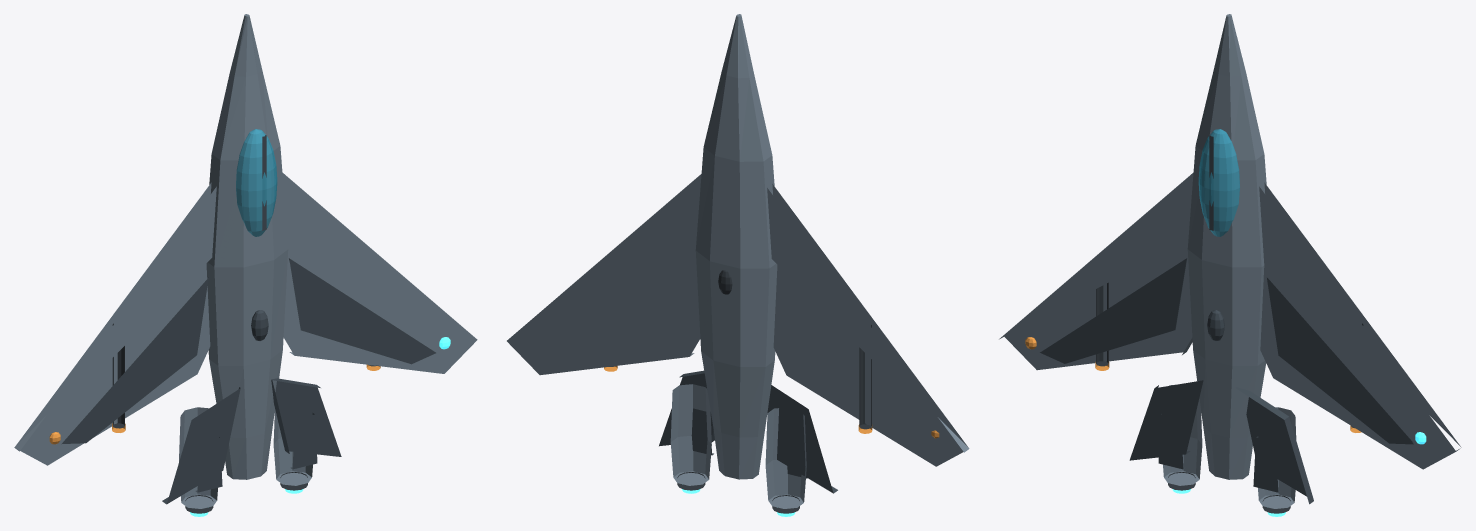
The model's file is Starfall_Interceptor.glb.
3 views of the same model, side by side, from view 1: azimuth 30°, elevation 25°; view 2: azimuth 150°, elevation 25°; view 3: azimuth 330°, elevation 25° (orthographic).
Visible parts, largest first — view 1: Main fuselage, Port swept wing, Starboard swept wing, Port wing panel, Starboard wing panel, Cockpit canopy, Port tail fin, Starboard tail fin, Starboard engine nacelle, Starboard nacelle top armor, Port nacelle top armor, Port engine nacelle; view 2: Main fuselage, Port swept wing, Starboard swept wing, Port tail fin, Starboard engine nacelle, Port engine nacelle, Starboard tail fin, Starboard nacelle top armor, Port laser barrel; view 3: Main fuselage, Starboard swept wing, Port swept wing, Starboard wing panel, Port wing panel, Cockpit canopy, Starboard tail fin, Port tail fin, Port engine nacelle, Starboard nacelle top armor, Port nacelle top armor, Starboard engine nacelle.
Boxes of the visible parts, left/top/right/bottom form: Main fuselage: left=206, top=14, right=288, bottom=479; Port swept wing: left=14, top=182, right=216, bottom=465; Starboard swept wing: left=282, top=172, right=477, bottom=373; Port wing panel: left=61, top=277, right=208, bottom=444; Starboard wing panel: left=289, top=258, right=435, bottom=364; Cockpit canopy: left=236, top=129, right=277, bottom=236; Port tail fin: left=162, top=387, right=240, bottom=504; Starboard tail fin: left=271, top=378, right=341, bottom=456; Starboard engine nacelle: left=273, top=409, right=312, bottom=485; Starboard nacelle top armor: left=290, top=413, right=317, bottom=469; Port nacelle top armor: left=195, top=437, right=222, bottom=492; Port engine nacelle: left=179, top=407, right=217, bottom=508; Main fuselage: left=695, top=14, right=777, bottom=479; Port swept wing: left=767, top=184, right=969, bottom=466; Starboard swept wing: left=507, top=174, right=701, bottom=375; Port tail fin: left=767, top=385, right=837, bottom=493; Starboard engine nacelle: left=670, top=384, right=711, bottom=485; Port engine nacelle: left=765, top=408, right=806, bottom=508; Starboard tail fin: left=659, top=370, right=714, bottom=446; Starboard nacelle top armor: left=691, top=408, right=713, bottom=455; Port laser barrel: left=859, top=325, right=871, bottom=429; Main fuselage: left=1187, top=14, right=1266, bottom=479; Starboard swept wing: left=1259, top=182, right=1461, bottom=469; Port swept wing: left=999, top=172, right=1193, bottom=370; Starboard wing panel: left=1267, top=277, right=1414, bottom=444; Port wing panel: left=1040, top=258, right=1187, bottom=363; Cockpit canopy: left=1198, top=129, right=1239, bottom=236; Starboard tail fin: left=1235, top=387, right=1313, bottom=504; Port tail fin: left=1129, top=380, right=1203, bottom=460; Port engine nacelle: left=1163, top=384, right=1202, bottom=485; Starboard nacelle top armor: left=1253, top=436, right=1280, bottom=492; Port nacelle top armor: left=1158, top=414, right=1185, bottom=469; Starboard engine nacelle: left=1258, top=407, right=1296, bottom=508.
Size of the model in its own units: 5.5 by 5.58 by 0.7021.
